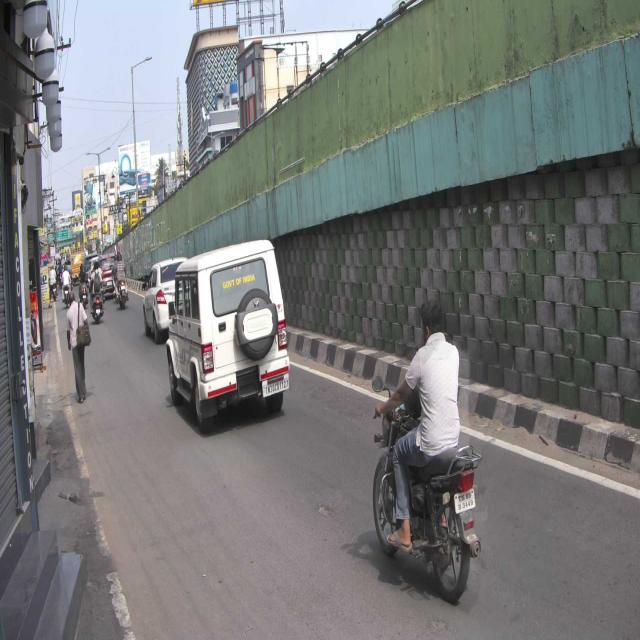single_rider: (371, 290, 483, 604)
